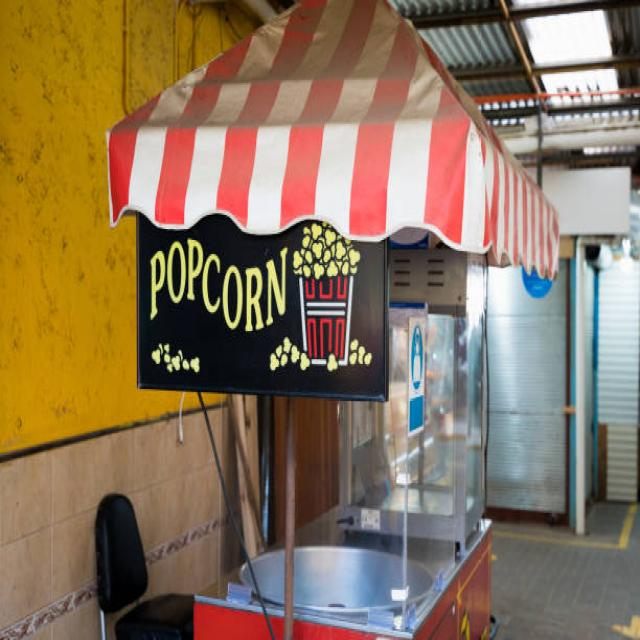Emperan: (106, 0, 572, 640)
